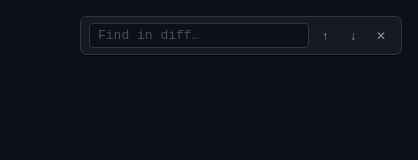
Test: SearchBar › match count label › shows "current of total" when there are matches
The image size is (418, 160).
Type "foo" into the field named "Search diff content" at (199, 36), box [89, 23, 309, 48]
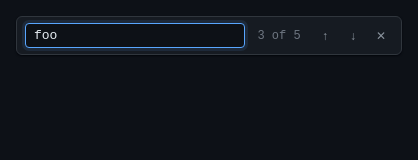
Now the text "3 of 5" is shown, box [257, 28, 301, 42]
